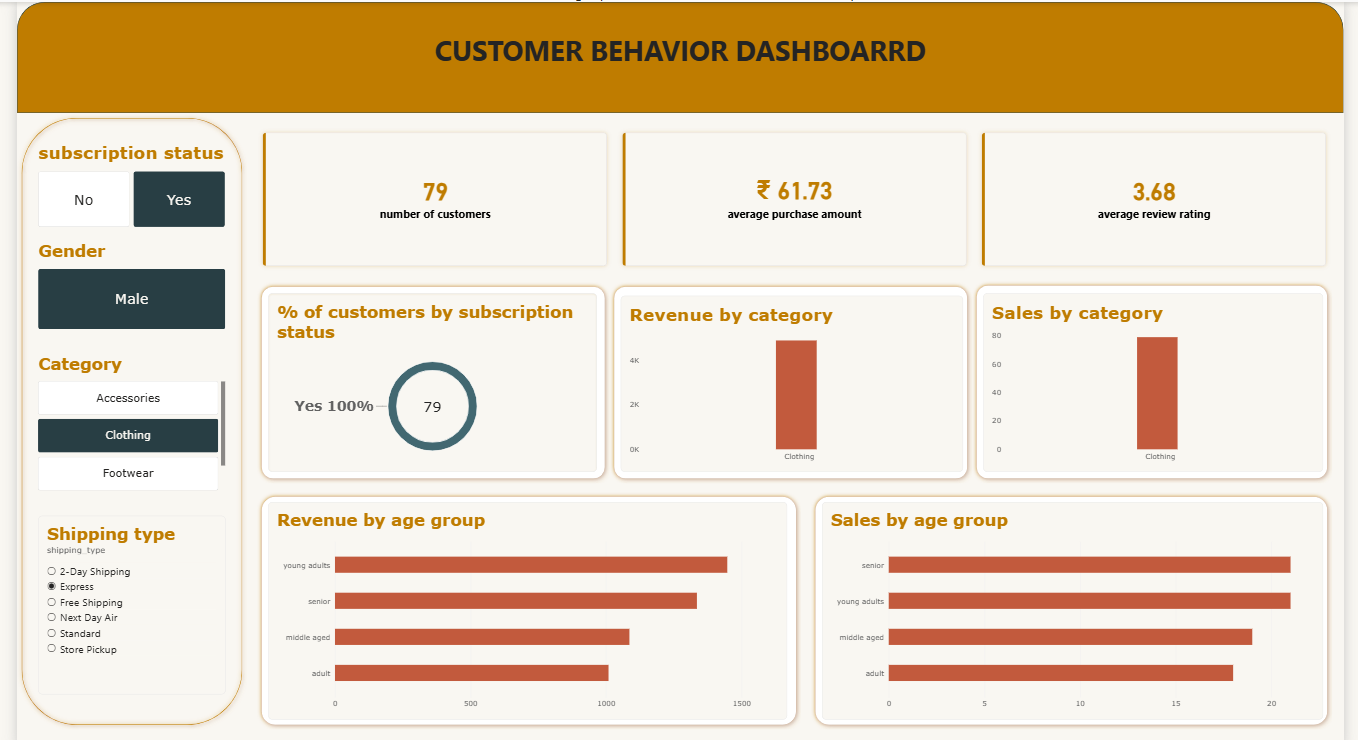

This screenshot's page, from the dashboard's own definition file:
{"tool":"powerbi","page":{"name":"Page 1","canvas":[2560,1440],"ordinal":0},"visuals":[{"type":"cardVisual","fields":{"Data":["public customer.number of customers","public customer.average purchase amount","public customer.average review rating"]},"box":[463.3,241.3,2075.1,279.9],"z":0},{"type":"shape","box":[0,0,2560.6,214.1],"z":1},{"type":"textbox","box":[0,54.9,2560.6,115.3],"z":2},{"type":"shape","box":[463.3,540.5,680.4,388.5],"z":3},{"type":"donutChart","title":"% of customers by subscription status","fields":{"Category":["public customer.subscription_status"],"Y":["CountNonNull(public customer.customer_id)"]},"box":[485,562.2,634.6,345],"z":4},{"type":"shape","box":[1143.7,540.5,699.7,388.5],"z":5},{"type":"shape","box":[1843.4,538.1,694.9,390.9],"z":6},{"type":"clusteredColumnChart","title":"Revenue by category","fields":{"Category":["public customer.category"],"Y":["Sum(public customer.purchase_amount)"]},"box":[1165.4,567,661.1,340.2],"z":7},{"type":"clusteredColumnChart","title":"Sales by category","fields":{"Category":["public customer.category"],"Y":["CountNonNull(public customer.customer_id)"]},"box":[1865.2,562.2,656.3,345],"z":8},{"type":"shape","box":[0,214.7,444,1189.6],"z":9},{"type":"advancedSlicerVisual","fields":{"Values":["public customer.subscription_status"]},"box":[41,270.2,361.9,164.1],"z":10},{"type":"advancedSlicerVisual","fields":{"Values":["public customer.gender"]},"box":[41,460.9,361.9,171.3],"z":11},{"type":"advancedSlicerVisual","fields":{"Values":["public customer.category"]},"box":[41,678,361.9,267.8],"z":12},{"type":"listSlicer","title":"Shipping type","fields":{"Values":["public customer.shipping_type"]},"box":[41,991.7,361.9,345],"z":13},{"type":"shape","box":[463.3,945.8,1049.6,458.4],"z":15},{"type":"shape","box":[1532.2,945.8,1006.2,458.4],"z":16},{"type":"clusteredBarChart","title":"Sales by age group","fields":{"Category":["public customer.age_group"],"Y":["CountNonNull(public customer.customer_id)"]},"box":[1553.9,965.2,967.6,419.8],"z":17},{"type":"clusteredBarChart","title":"Revenue by age group","fields":{"Category":["public customer.age_group"],"Y":["Sum(public customer.purchase_amount)"]},"box":[485,965.2,1001.3,419.8],"z":18}]}

Visuals, with their boxes on the page's 2560x1440 design canvas (x1, y1, x2, y2). These are canvas units, not pixel positions in the 1358x740 screenshot, which may show the page scaled, cropped or inside an application window:
cardVisual - public customer.number of customers x public customer.average purchase amount: box=[463, 241, 2538, 521]
shape: box=[0, 0, 2561, 214]
textbox: box=[0, 55, 2561, 170]
shape: box=[463, 540, 1144, 929]
"% of customers by subscription status" donutChart: box=[485, 562, 1120, 907]
shape: box=[1144, 540, 1843, 929]
shape: box=[1843, 538, 2538, 929]
"Revenue by category" clusteredColumnChart: box=[1165, 567, 1826, 907]
"Sales by category" clusteredColumnChart: box=[1865, 562, 2522, 907]
shape: box=[0, 215, 444, 1404]
advancedSlicerVisual - public customer.subscription_status: box=[41, 270, 403, 434]
advancedSlicerVisual - public customer.gender: box=[41, 461, 403, 632]
advancedSlicerVisual - public customer.category: box=[41, 678, 403, 946]
"Shipping type" listSlicer: box=[41, 992, 403, 1337]
shape: box=[463, 946, 1513, 1404]
shape: box=[1532, 946, 2538, 1404]
"Sales by age group" clusteredBarChart: box=[1554, 965, 2522, 1385]
"Revenue by age group" clusteredBarChart: box=[485, 965, 1486, 1385]
